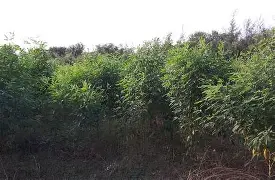crops: (0, 16, 269, 156), (84, 117, 176, 177), (168, 127, 236, 176), (0, 105, 59, 153), (55, 77, 103, 133), (113, 59, 152, 120), (18, 39, 56, 88), (244, 123, 275, 175), (1, 153, 39, 180)
